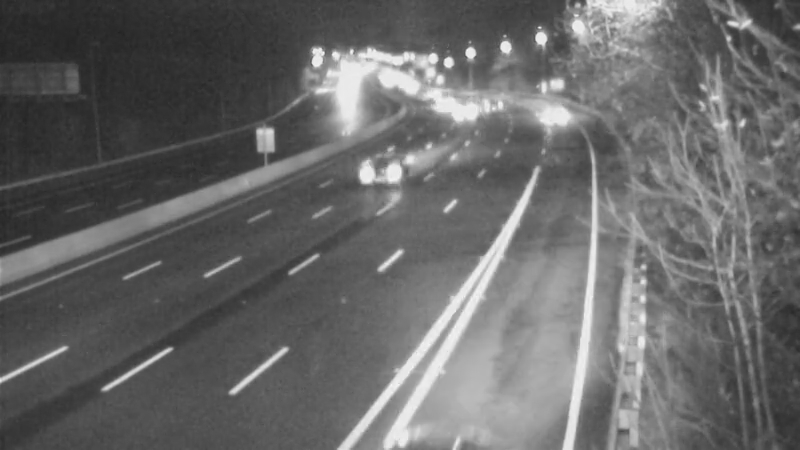vehicle: (342, 132, 422, 212), (399, 70, 449, 120), (414, 80, 464, 130), (469, 77, 519, 127), (523, 87, 573, 137), (438, 83, 488, 133)
